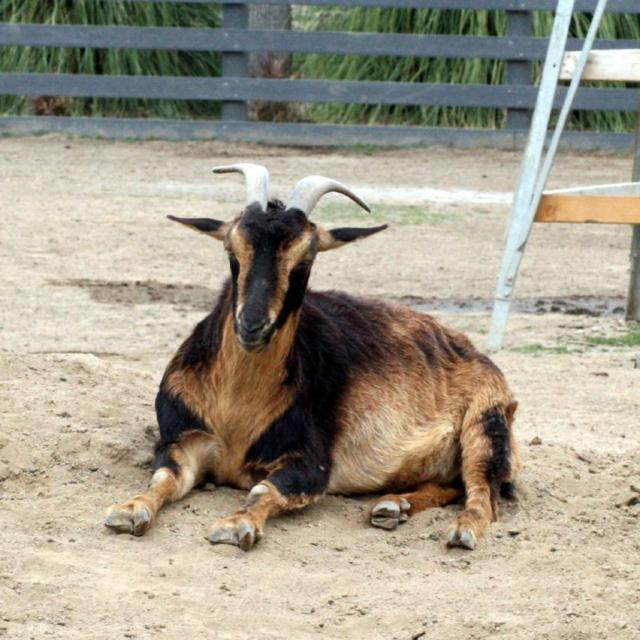Goat: (84, 161, 512, 552)
